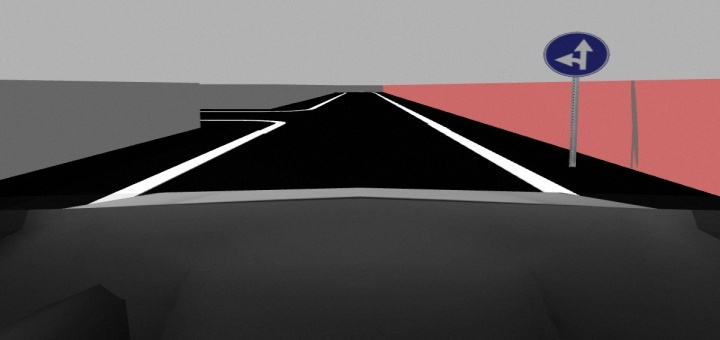ileri_sola: (538, 29, 611, 78)
